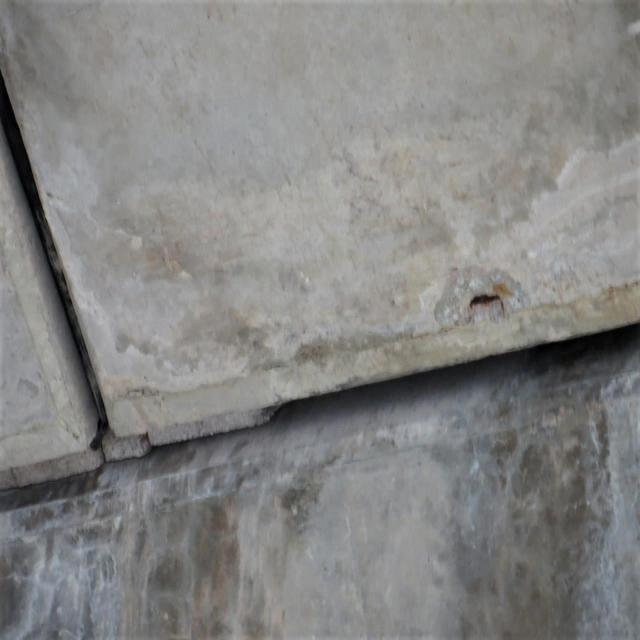Rebar: (433, 265, 529, 333)
